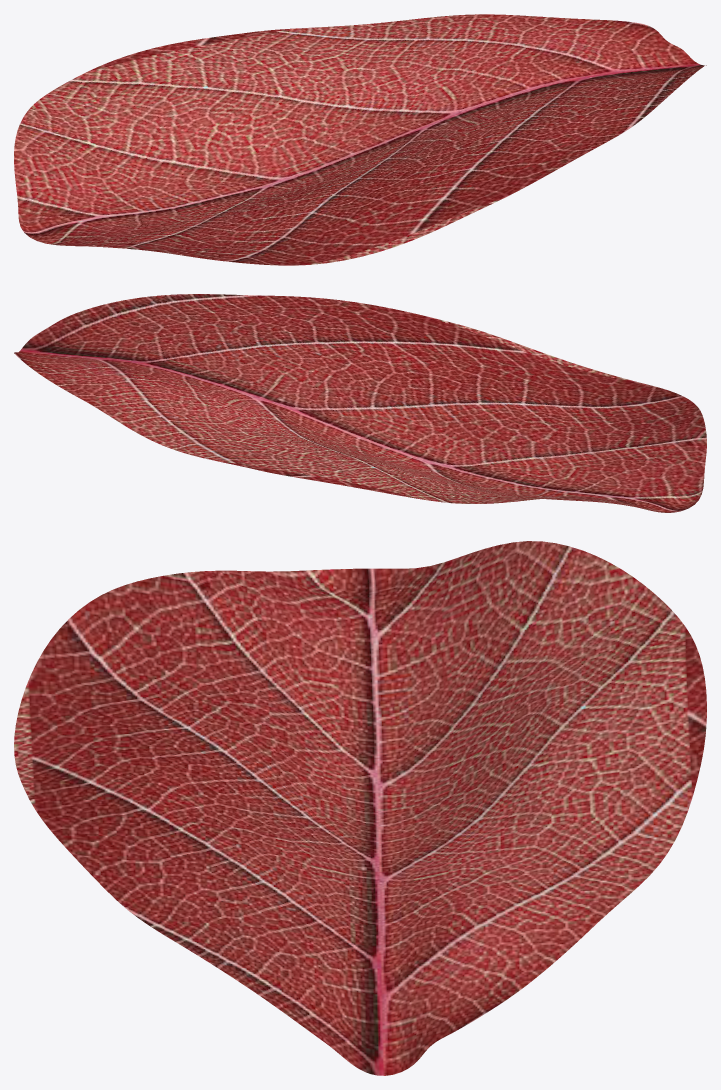
The model's file is leaf_c1_red.glb.
3 views of the same model, one above another, from view 1: azimuth 30°, elevation 25°; view 2: azimuth 150°, elevation 25°; view 3: azimuth 270°, elevation 25° (orthographic). The views are drawn at different scales.
Visible parts, largest first — view 1: Circle.010; view 2: Circle.010; view 3: Circle.010.
Part boxes in pixels (box(x1,y1,x2,y2)): Circle.010: box(14, 14, 706, 265); Circle.010: box(14, 294, 706, 512); Circle.010: box(14, 541, 706, 1075).
Bounding box in the file's own units: 0.9999 × 0.086 × 0.5781.
1 material, 1 textured.
